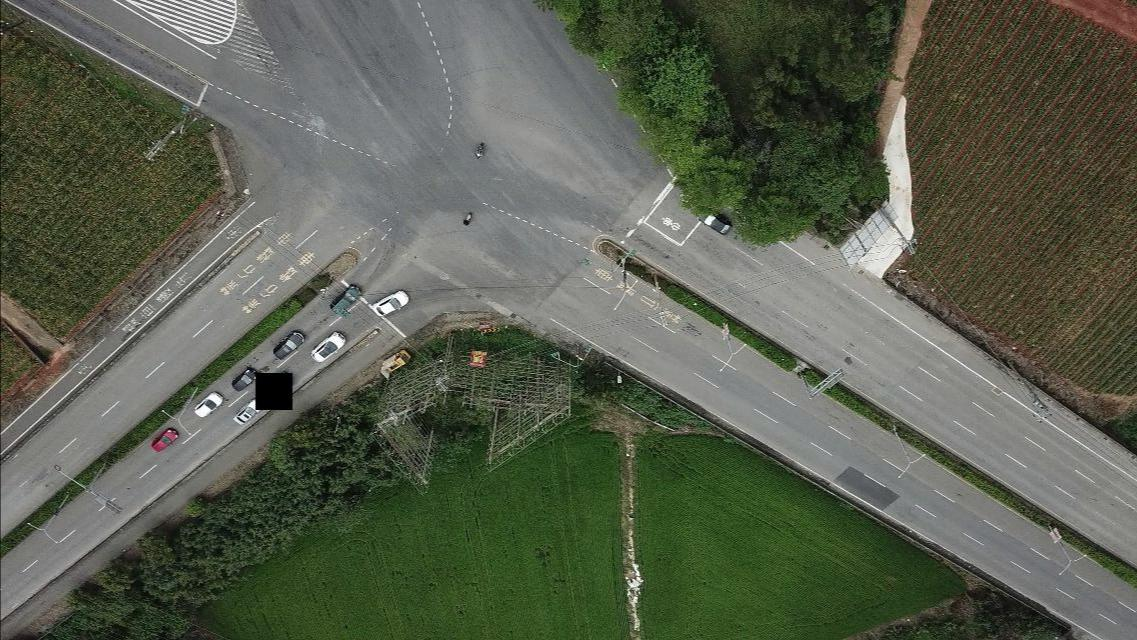vehicle: (327, 282, 365, 317), (696, 208, 734, 236), (372, 292, 410, 319), (315, 332, 347, 362), (273, 333, 303, 361), (382, 348, 412, 373), (233, 400, 262, 425), (151, 429, 179, 454), (193, 394, 222, 418), (231, 370, 257, 392)
